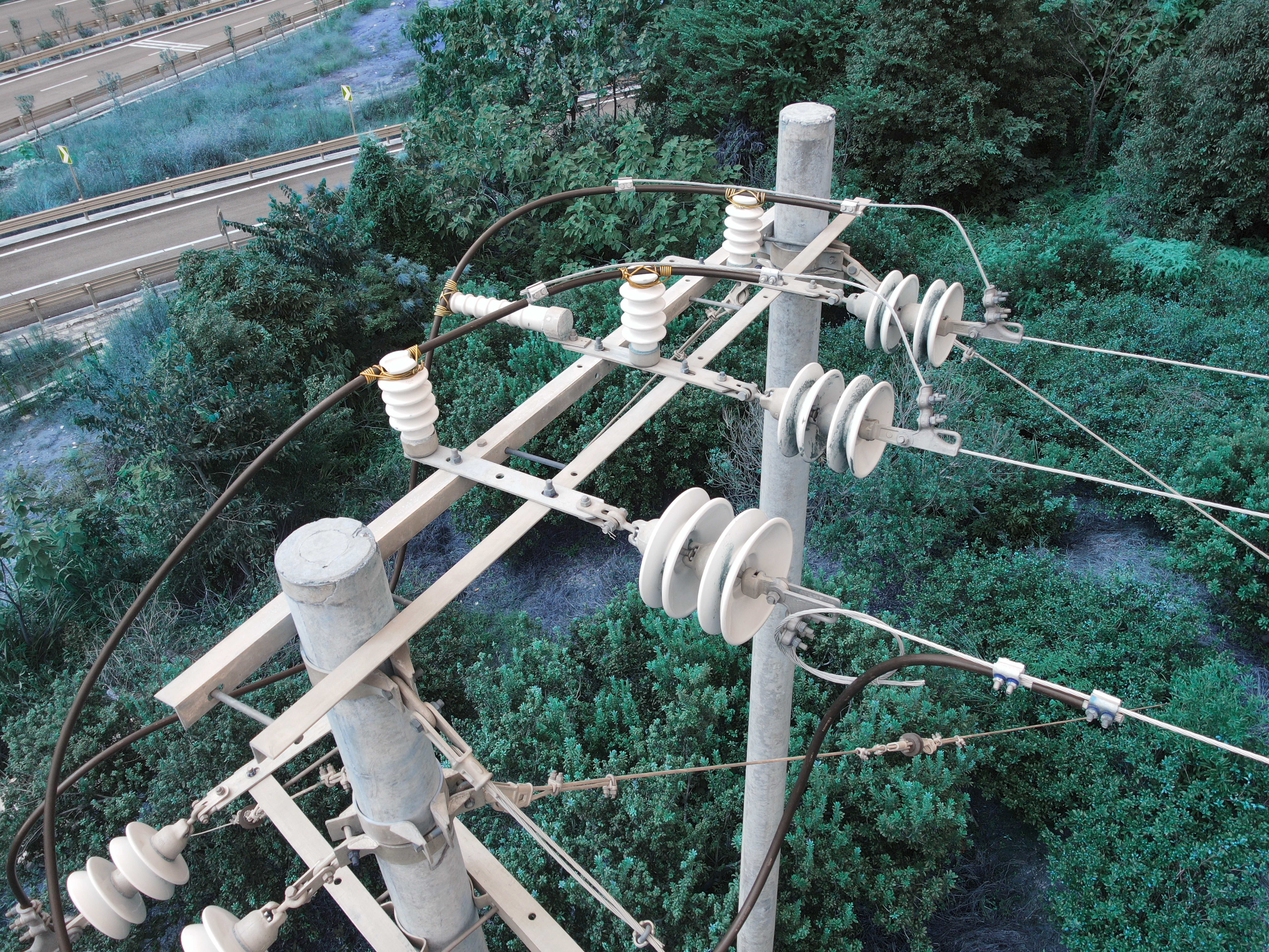severe_soiling_no_discharge_whole: (763, 358, 898, 481), (848, 265, 970, 373)
